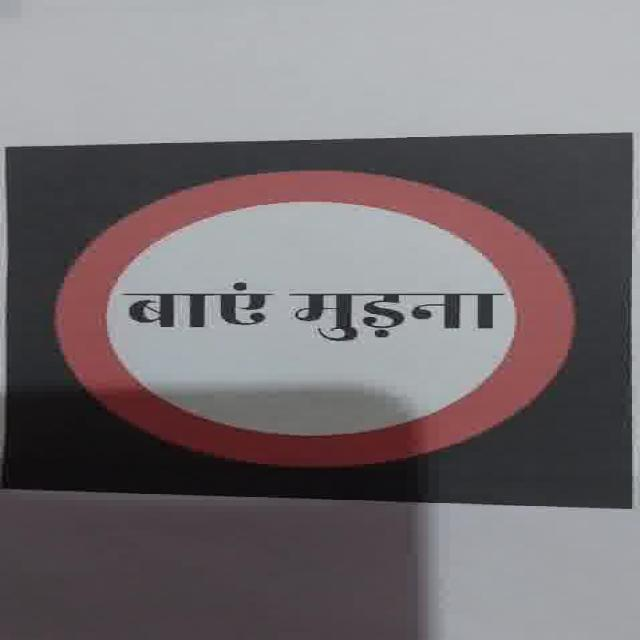hindileft: (52, 167, 577, 468), (121, 281, 506, 342), (94, 255, 280, 354)
